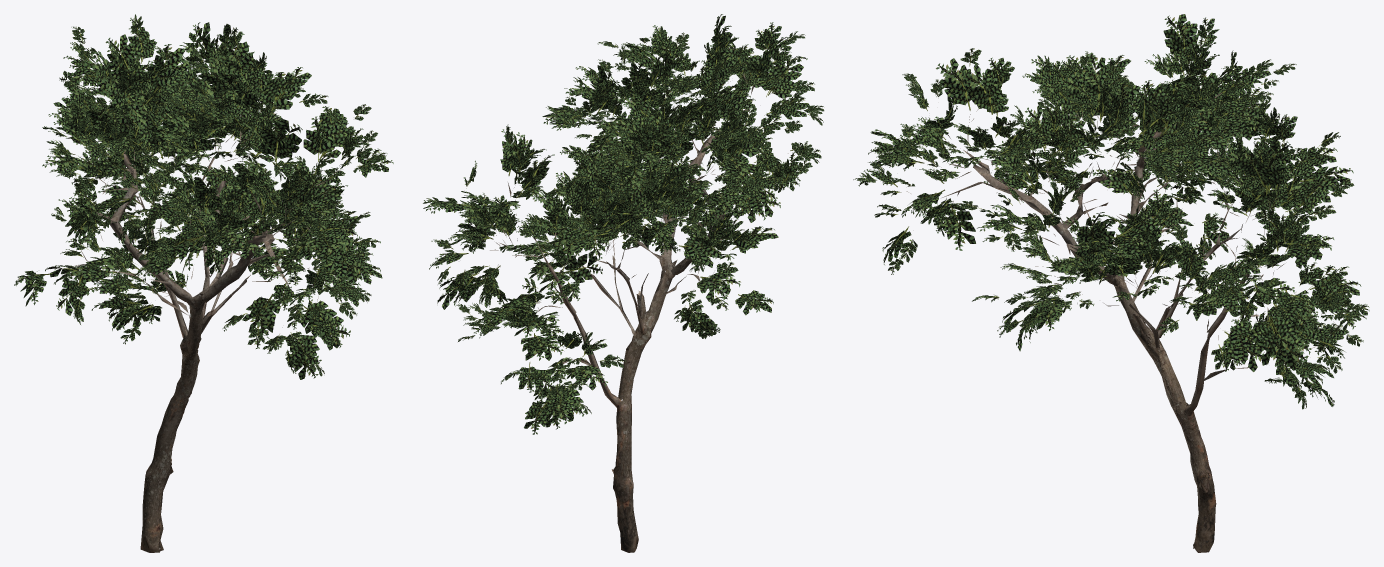
File: tree_small_02.glb
3 views of the same model, side by side, from view 1: azimuth 30°, elevation 25°; view 2: azimuth 150°, elevation 25°; view 3: azimuth 270°, elevation 25° (orthographic). The views are drawn at different scales.
Visible parts, largest first — view 1: tree_small_02_LOD0; view 2: tree_small_02_LOD0; view 3: tree_small_02_LOD0.
Part boxes in pixels (box(x1,y1,x2,y2)): tree_small_02_LOD0: box(14, 14, 393, 552); tree_small_02_LOD0: box(423, 14, 824, 552); tree_small_02_LOD0: box(853, 14, 1369, 552).
Bounding box in the file's own units: 2.92 × 4.56 × 4.29.
Materials: 3 (3 with a texture image).
